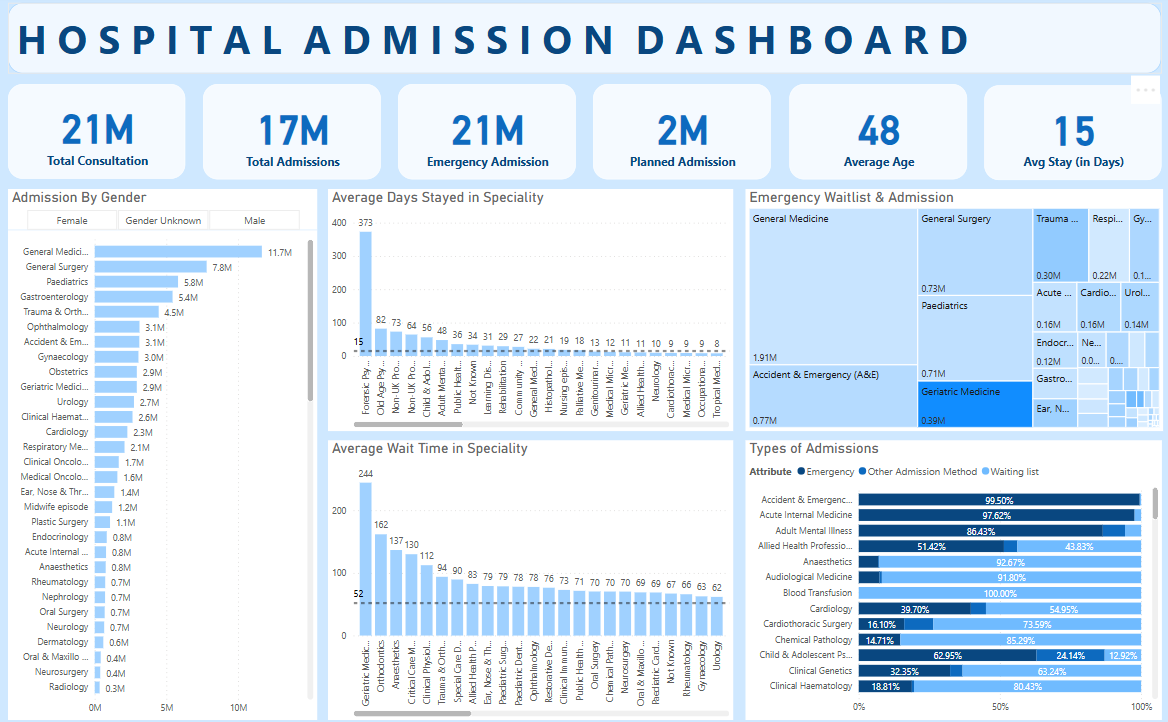

What the dashboard file says about the page in this screenshot:
{"tool":"powerbi","page":{"name":"Page 1","canvas":[1600,1000],"ordinal":0},"visuals":[{"type":"card","fields":{"Values":["Sum(Main Specialty Edited (hosp-epis-stat-admi-main-spec-2019-20-tab)_Main Specialty.Value)"]},"box":[13.6,122.7,241.1,128.8],"z":0,"group":"g1"},{"type":"textbox","box":[13.7,12,1566.4,96],"z":0},{"type":"card","fields":{"Values":["Sum(Main Specialty Edited (hosp-epis-stat-admi-main-spec-2019-20-tab)_Main Specialty.Value)"]},"box":[278.3,122.2,241.6,130],"z":1000,"group":"g1"},{"type":"group","id":"g1","title":"Group 1","box":[13.6,122.2,1567.1,130.7],"z":1000},{"type":"card","fields":{"Values":["Sum(Main Specialty Edited (hosp-epis-stat-admi-main-spec-2019-20-tab)_Main Specialty.Value)"]},"box":[543.7,122.2,241.6,130],"z":2000,"group":"g1"},{"type":"slicer","title":"Admission By Gender","fields":{"Values":["Main Specialty Edited (hosp-epis-stat-admi-main-spec-2019-20-tab)_Main Specialty.Attribute"]},"box":[13.7,265.6,419.9,54.8],"z":2000},{"type":"card","fields":{"Values":["Sum(Main Specialty Edited (hosp-epis-stat-admi-main-spec-2019-20-tab)_Main Specialty.Value)"]},"box":[809,122.2,241.6,130],"z":3000,"group":"g1"},{"type":"clusteredBarChart","fields":{"Category":["Main Specialty Edited (hosp-epis-stat-admi-main-spec-2019-20-tab)_Main Specialty.Main Speciality"],"Y":["Sum(Main Specialty Edited (hosp-epis-stat-admi-main-spec-2019-20-tab)_Main Specialty.Value)"]},"box":[13.7,320.5,419.9,666.7],"z":3000},{"type":"card","fields":{"Values":["Avg(Main Specialty Edited (hosp-epis-stat-admi-main-spec-2019-20-tab)_Main Specialty.Value)"]},"box":[1074.3,122.2,241.6,130],"z":4000,"group":"g1"},{"type":"clusteredColumnChart","title":"Average Days Stayed in Speciality","fields":{"Category":["Main Specialty Edited (hosp-epis-stat-admi-main-spec-2019-20-tab)_Main Specialty.Main Speciality"],"Y":["Avg(Main Specialty Edited (hosp-epis-stat-admi-main-spec-2019-20-tab)_Main Specialty.Value)"]},"box":[449,265.6,550.1,329.1],"z":4000},{"type":"card","fields":{"Values":["Avg(Main Specialty Edited (hosp-epis-stat-admi-main-spec-2019-20-tab)_Main Specialty.Value)"]},"box":[1339.6,124.1,241.1,128.8],"z":5000,"group":"g1"},{"type":"clusteredColumnChart","title":"Average Wait Time in Speciality","fields":{"Category":["Main Specialty Edited (hosp-epis-stat-admi-main-spec-2019-20-tab)_Main Specialty.Main Speciality"],"Y":["Avg(Main Specialty Edited (hosp-epis-stat-admi-main-spec-2019-20-tab)_Main Specialty.Value)"]},"box":[449,606.7,550.1,380.5],"z":5000},{"type":"treemap","title":"Emergency Waitlist & Admission","fields":{"Group":["Main Specialty Edited (hosp-epis-stat-admi-main-spec-2019-20-tab)_Main Specialty.Main Speciality"],"Values":["Sum(Main Specialty Edited (hosp-epis-stat-admi-main-spec-2019-20-tab)_Main Specialty.Value)"]},"box":[1014.6,265.6,567.3,329.1],"z":6000},{"type":"hundredPercentStackedBarChart","title":"Types of Admissions","fields":{"Category":["Main Specialty Edited (hosp-epis-stat-admi-main-spec-2019-20-tab)_Main Specialty.Main Speciality"],"Y":["Sum(Main Specialty Edited (hosp-epis-stat-admi-main-spec-2019-20-tab)_Main Specialty.Value)"],"Series":["Main Specialty Edited (hosp-epis-stat-admi-main-spec-2019-20-tab)_Main Specialty.Attribute"]},"box":[1014.6,606.7,565.6,380.5],"z":7000}]}

Visuals, with their boxes in screenshot pixels (x1, y1, x2, y2), scaled from the page's 1600x1000 canvas onto the 1168x722 screenshot:
card - Sum(Main Specialty Edited (hosp-epis-stat-admi-main-spec-2019-20-tab)_Main Specialty.Value): l=10, t=89, r=186, b=182
textbox: l=10, t=9, r=1153, b=78
card - Sum(Main Specialty Edited (hosp-epis-stat-admi-main-spec-2019-20-tab)_Main Specialty.Value): l=203, t=88, r=380, b=182
"Group 1" group: l=10, t=88, r=1154, b=183
card - Sum(Main Specialty Edited (hosp-epis-stat-admi-main-spec-2019-20-tab)_Main Specialty.Value): l=397, t=88, r=573, b=182
"Admission By Gender" slicer: l=10, t=192, r=317, b=231
card - Sum(Main Specialty Edited (hosp-epis-stat-admi-main-spec-2019-20-tab)_Main Specialty.Value): l=591, t=88, r=767, b=182
clusteredBarChart - Main Specialty Edited (hosp-epis-stat-admi-main-spec-2019-20-tab)_Main Specialty.Main Speciality x Sum(Main Specialty Edited (hosp-epis-stat-admi-main-spec-2019-20-tab)_Main Specialty.Value): l=10, t=231, r=317, b=713
card - Avg(Main Specialty Edited (hosp-epis-stat-admi-main-spec-2019-20-tab)_Main Specialty.Value): l=784, t=88, r=961, b=182
"Average Days Stayed in Speciality" clusteredColumnChart: l=328, t=192, r=729, b=429
card - Avg(Main Specialty Edited (hosp-epis-stat-admi-main-spec-2019-20-tab)_Main Specialty.Value): l=978, t=90, r=1154, b=183
"Average Wait Time in Speciality" clusteredColumnChart: l=328, t=438, r=729, b=713
"Emergency Waitlist & Admission" treemap: l=741, t=192, r=1155, b=429
"Types of Admissions" hundredPercentStackedBarChart: l=741, t=438, r=1154, b=713
